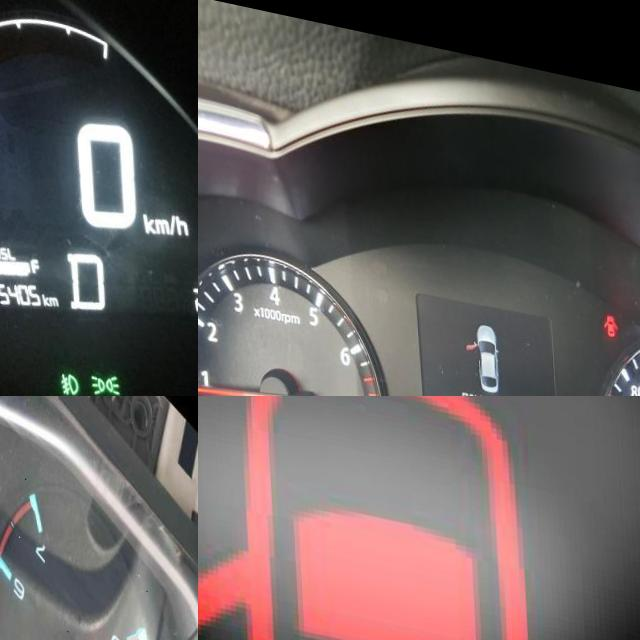FrontFogLight: (53, 368, 72, 394)
SideLamp: (84, 365, 114, 394)
